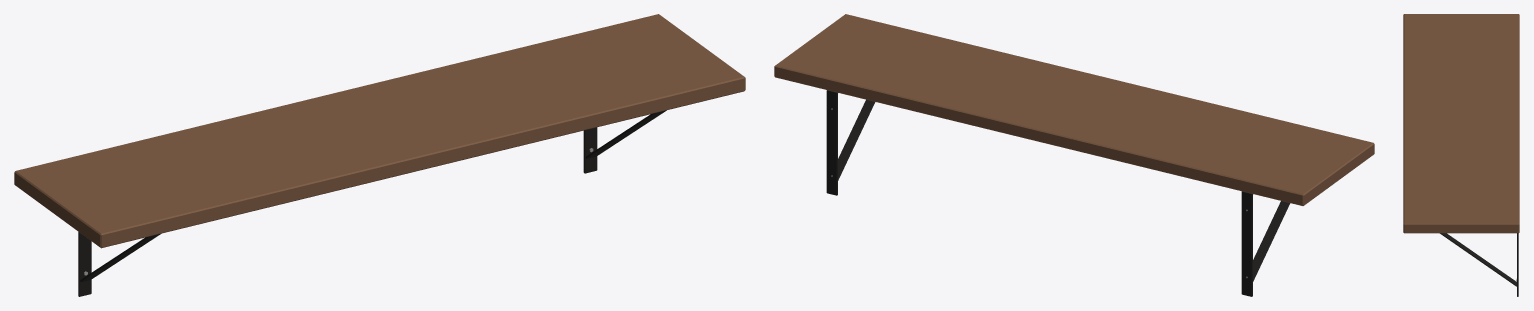
File: kitchen-open-shelf-dfcf8ea17be4.glb
The picture shows the model from 3 angles, left to right: view 1: azimuth 30°, elevation 25°; view 2: azimuth 150°, elevation 25°; view 3: azimuth 270°, elevation 25°; orthographic projection. The views are drawn at different scales.
Visible parts, largest first — view 1: wood-walnut, enamel-black; view 2: wood-walnut, enamel-black; view 3: wood-walnut, enamel-black.
Boxes of the visible parts, left/top/right/bottom form: wood-walnut: left=14, top=14, right=745, bottom=248; enamel-black: left=78, top=110, right=666, bottom=296; wood-walnut: left=774, top=14, right=1374, bottom=205; enamel-black: left=826, top=90, right=1290, bottom=296; wood-walnut: left=1403, top=14, right=1519, bottom=233; enamel-black: left=1440, top=233, right=1518, bottom=296.
Bounding box in the file's own units: 1.2 × 0.25 × 0.28.
